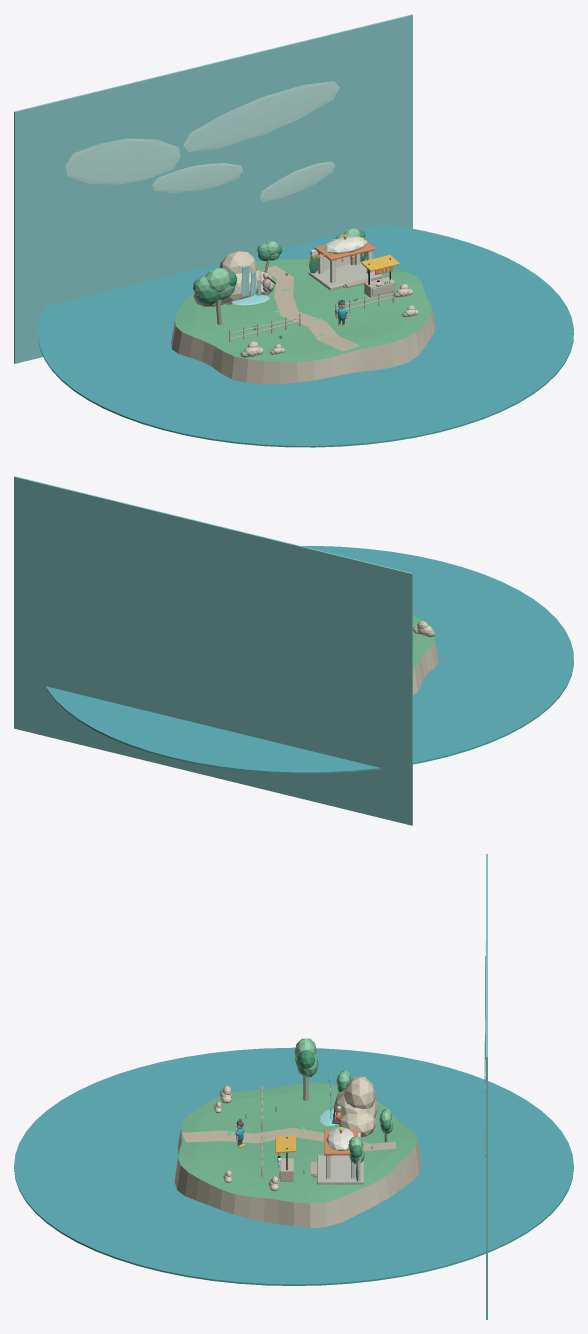
Rendered from nimbu_style_slice.glb.
3 views of the same model, one above another, from view 1: azimuth 30°, elevation 25°; view 2: azimuth 150°, elevation 25°; view 3: azimuth 270°, elevation 25° (orthographic). The views are drawn at different scales.
Parts seen in each view (by area): view 1: Sky_card, Water_disc, STYLE_SLICE_GRASS_PLATEAU, STYLE_SLICE_STONE_EDGE, Painted_cloud_1, Painted_cloud_0, Painted_cloud_2, Winding_hill_path, Painted_cloud_3, Waterfall_rock, Left_canopy_tree, Shrine_platform (+1 smaller); view 2: Sky_card, Water_disc, STYLE_SLICE_STONE_EDGE, STYLE_SLICE_GRASS_PLATEAU; view 3: Water_disc, STYLE_SLICE_GRASS_PLATEAU, STYLE_SLICE_STONE_EDGE, Waterfall_rock, Winding_hill_path, Shrine_platform, Sky_card, Left_canopy_tree.
Part boxes in pixels (bbox=[...]): Sky_card: bbox=[14, 14, 412, 363]; Water_disc: bbox=[38, 224, 573, 447]; STYLE_SLICE_GRASS_PLATEAU: bbox=[175, 259, 431, 361]; STYLE_SLICE_STONE_EDGE: bbox=[171, 260, 435, 384]; Painted_cloud_1: bbox=[183, 81, 339, 151]; Painted_cloud_0: bbox=[65, 138, 180, 184]; Painted_cloud_2: bbox=[152, 163, 243, 193]; Winding_hill_path: bbox=[263, 265, 359, 351]; Painted_cloud_3: bbox=[259, 161, 335, 201]; Waterfall_rock: bbox=[193, 250, 274, 306]; Left_canopy_tree: bbox=[193, 268, 237, 304]; Shrine_platform: bbox=[308, 262, 382, 290]; Sky_card: bbox=[14, 476, 412, 825]; Water_disc: bbox=[45, 546, 573, 773]; STYLE_SLICE_STONE_EDGE: bbox=[413, 638, 438, 694]; STYLE_SLICE_GRASS_PLATEAU: bbox=[413, 614, 434, 670]; Water_disc: bbox=[14, 1047, 573, 1285]; STYLE_SLICE_GRASS_PLATEAU: bbox=[178, 1082, 417, 1203]; STYLE_SLICE_STONE_EDGE: bbox=[174, 1082, 421, 1228]; Waterfall_rock: bbox=[333, 1076, 378, 1137]; Winding_hill_path: bbox=[182, 1127, 396, 1151]; Shrine_platform: bbox=[317, 1155, 363, 1184]; Sky_card: bbox=[486, 854, 487, 1319]; Left_canopy_tree: bbox=[294, 1038, 318, 1077].
Size of the model in its own units: 56 by 29 by 56.
